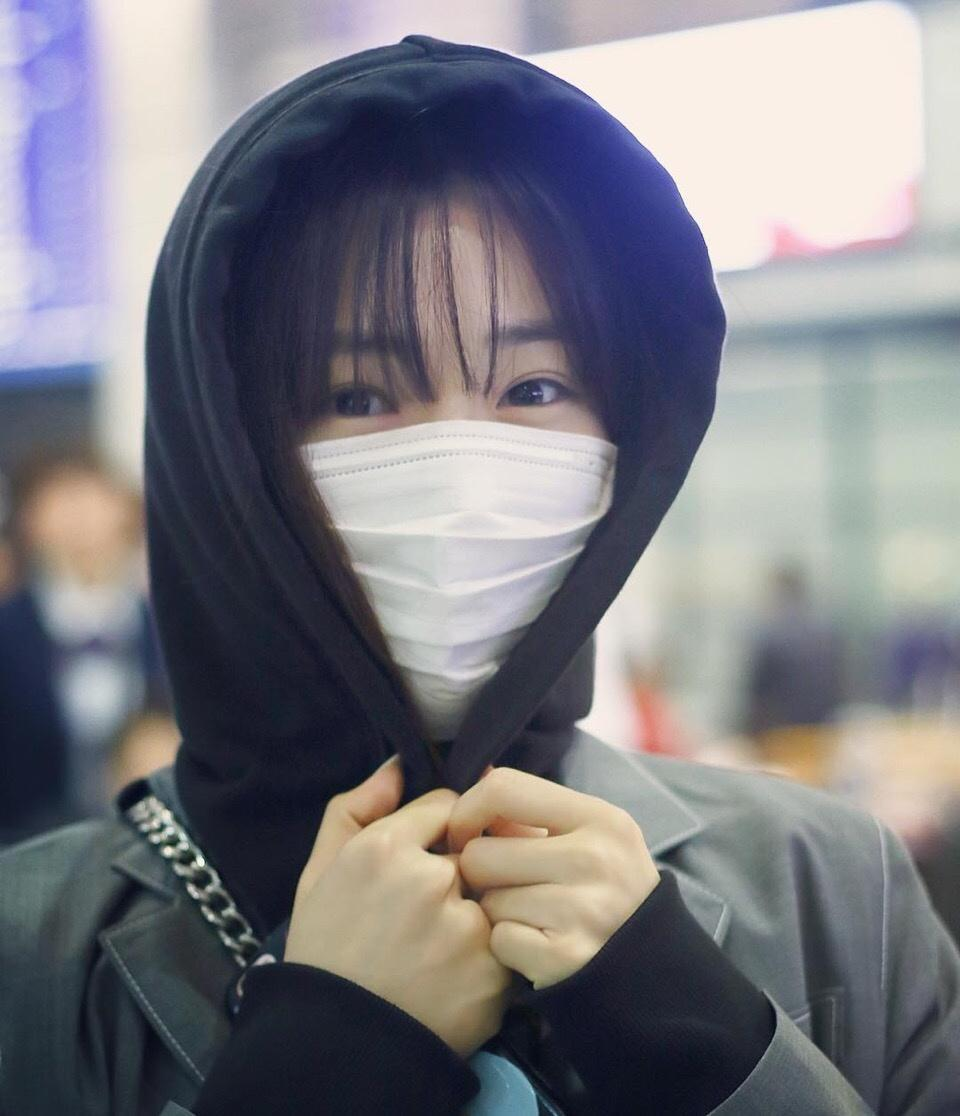OK: (271, 270, 627, 664)
